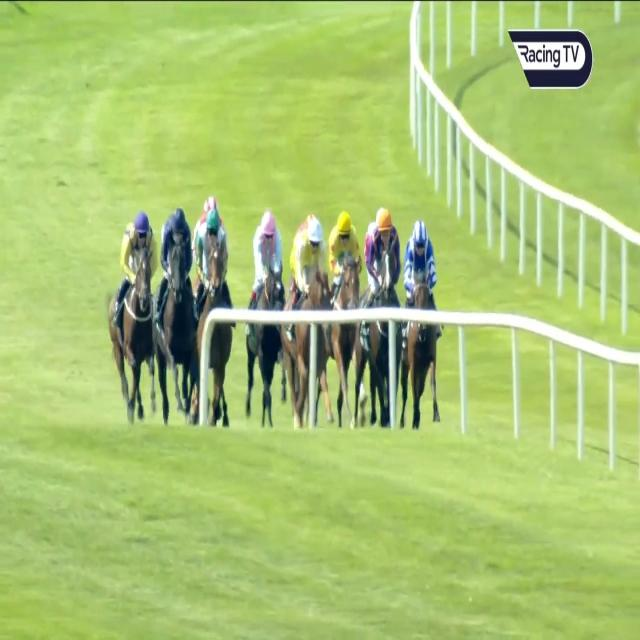horses-racing: (108, 205, 154, 418), (358, 220, 404, 422), (154, 198, 192, 434), (244, 202, 283, 430), (193, 214, 235, 422), (286, 226, 330, 424), (400, 212, 438, 427), (327, 208, 362, 436), (290, 202, 326, 261), (366, 201, 397, 269), (197, 187, 232, 237)
